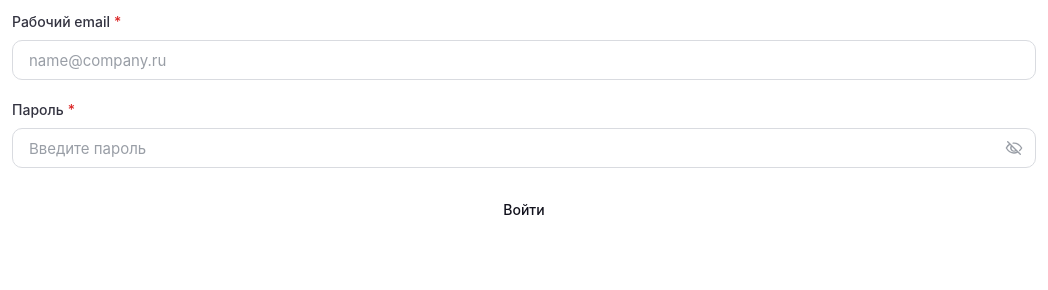
LoginForm — server errors › 401 AUTH_TOKEN_INVALID → form-level banner и очистка пароля
This screenshot has width=1048, height=290.
In the field labelled "Рабочий email *": (524, 60) [12,40,1036,80], type "user@example.com"
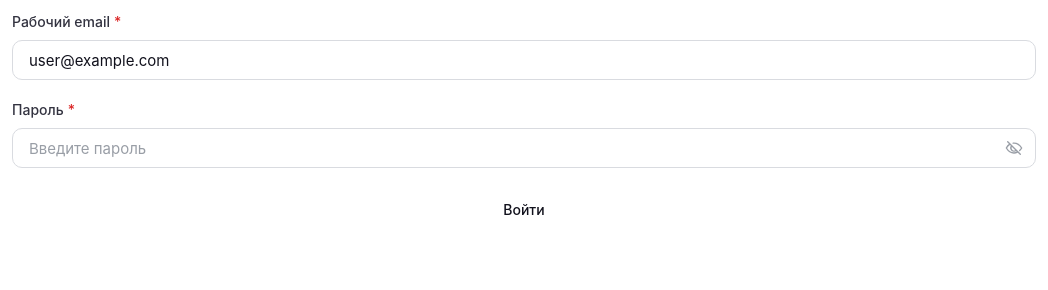
In the password field labelled "Пароль *": (524, 148) [12,128,1036,168], type "validpass"
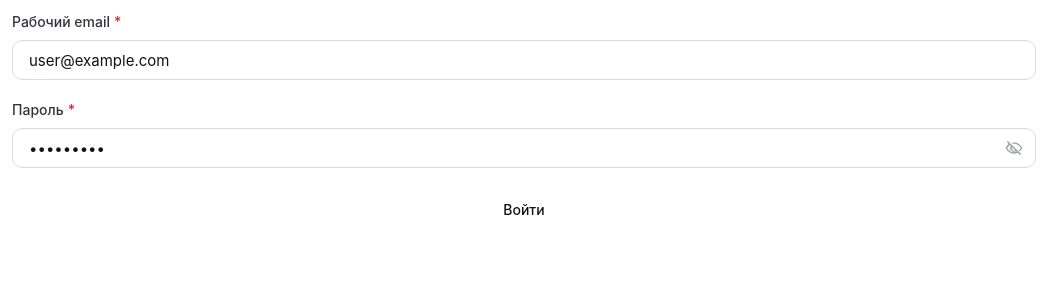
Submit the form labelled "Рабочий email * Пароль * Войти"
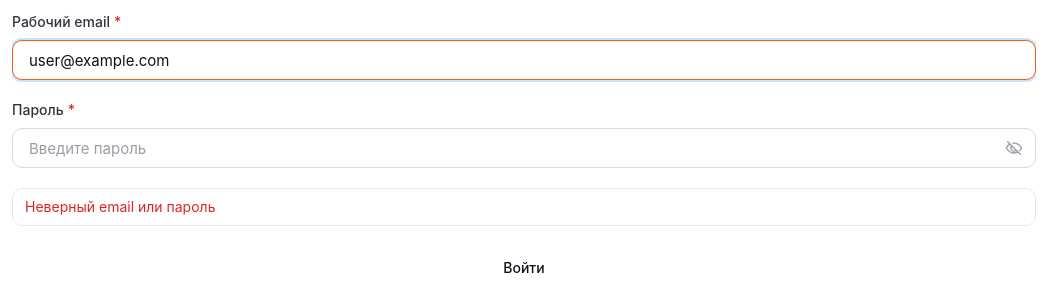
Check: the message with test id "login-form-error" reads "Неверный email или пароль", box [25,198,216,215]
Check: the password field labelled "Пароль *" is empty, box [12,128,1036,168]
